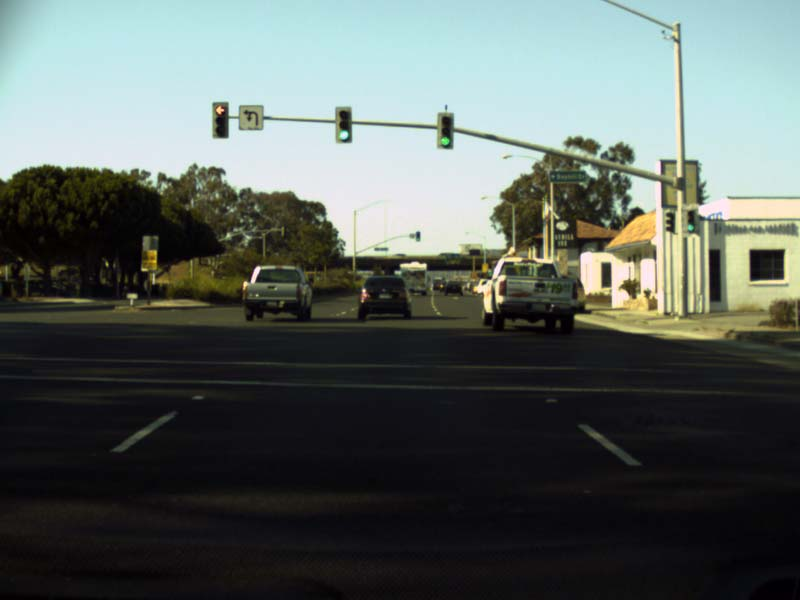Green: (436, 112, 453, 148), (335, 106, 351, 141), (686, 211, 694, 232), (415, 231, 419, 241)
Red: (211, 102, 228, 138)
